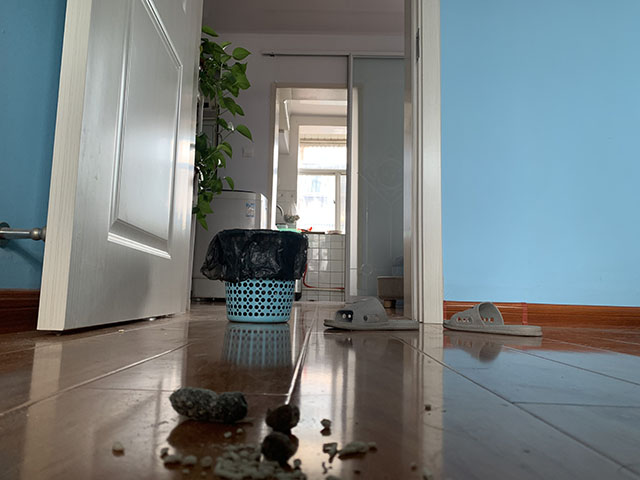feces: (167, 386, 249, 424), (261, 404, 301, 461)
slippers: (442, 300, 543, 337), (322, 296, 420, 332)
stool: (376, 276, 404, 308)
trashcan: (200, 228, 310, 325)
